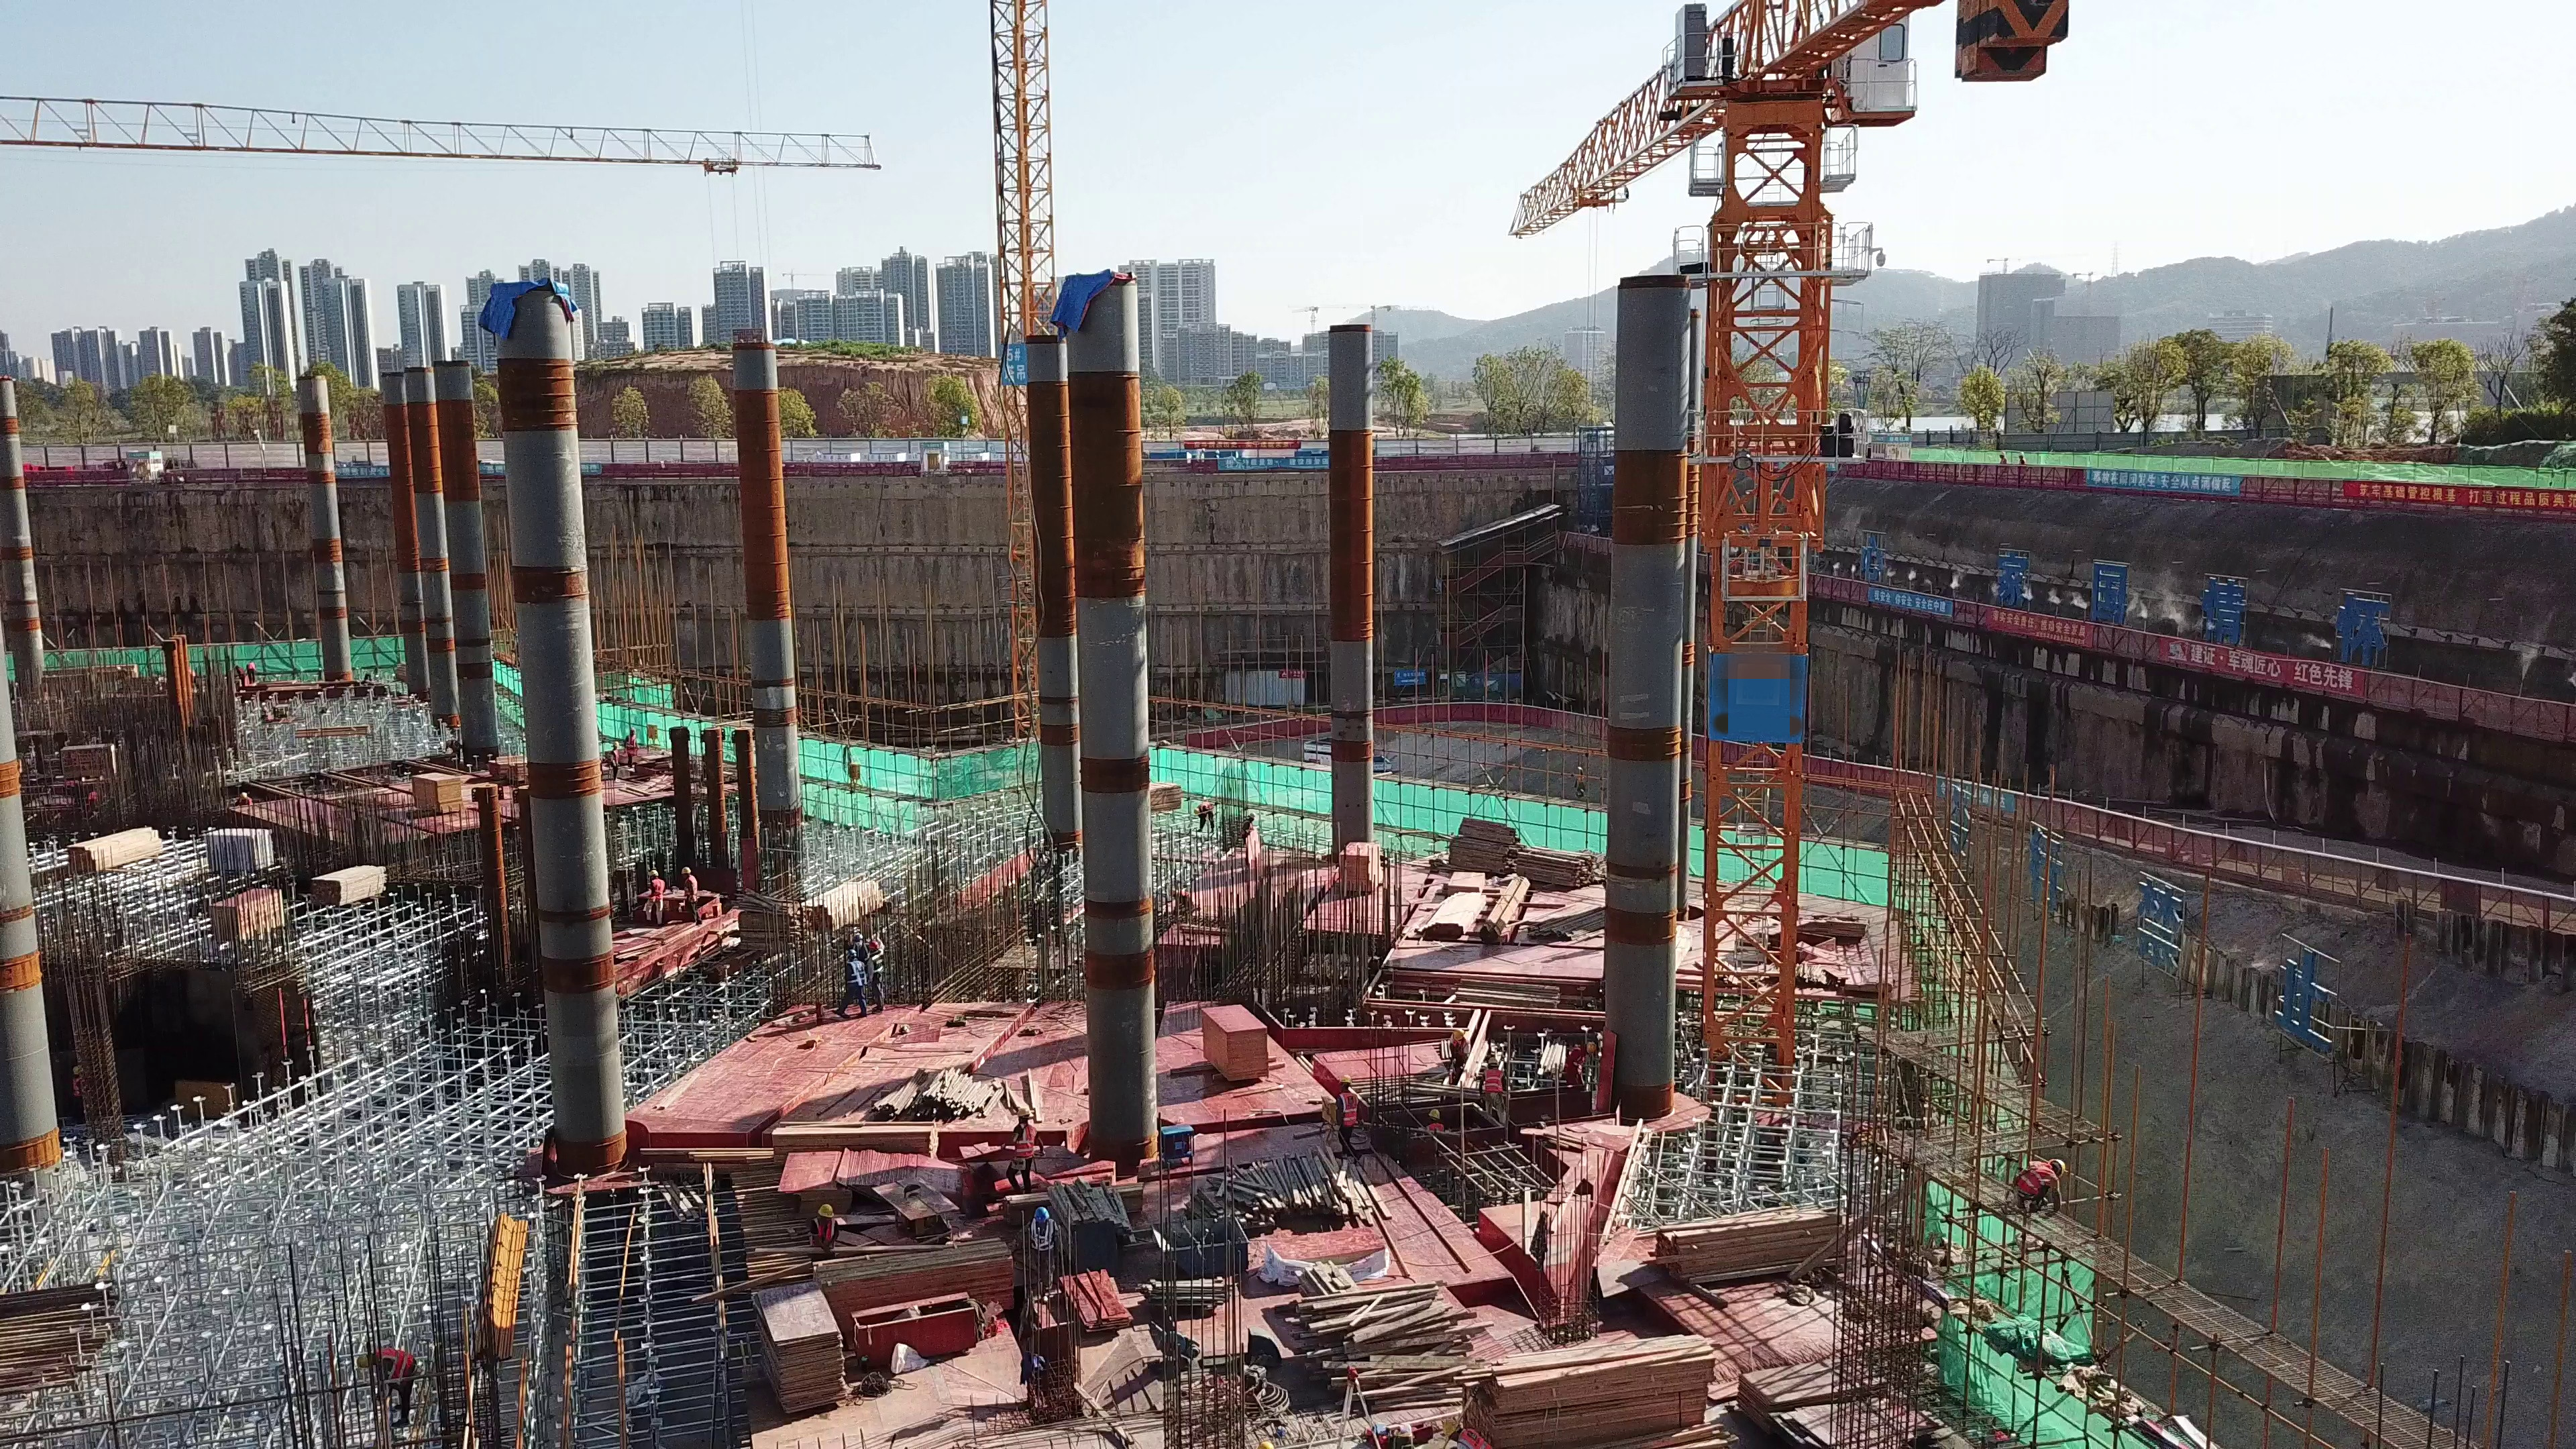helmet: (2053, 1156, 2070, 1174), (819, 1201, 835, 1215), (1014, 1106, 1034, 1116), (1587, 1039, 1601, 1055), (1033, 1210, 1049, 1222), (1339, 1073, 1356, 1087), (1452, 1027, 1468, 1040), (843, 949, 857, 961), (1429, 1107, 1442, 1122), (1485, 1057, 1500, 1065), (851, 930, 865, 939), (647, 867, 658, 877), (610, 739, 620, 750), (680, 866, 692, 876), (1171, 887, 1179, 897), (627, 725, 638, 733), (1248, 812, 1259, 819), (869, 940, 877, 948), (239, 791, 247, 800), (234, 661, 242, 667), (1193, 808, 1201, 814)
person: (2011, 1151, 2075, 1227), (349, 1347, 420, 1407), (1006, 1108, 1049, 1193), (1025, 1205, 1061, 1283), (1336, 1073, 1363, 1159), (800, 1201, 846, 1249), (833, 950, 865, 1016), (1479, 1055, 1509, 1119), (865, 941, 892, 1012), (1564, 1036, 1599, 1087), (678, 867, 705, 925), (640, 871, 670, 922), (1442, 1029, 1474, 1077), (1189, 798, 1217, 833), (602, 738, 623, 784), (622, 726, 642, 769), (1238, 813, 1256, 865), (1168, 883, 1194, 906), (1425, 1106, 1443, 1133), (235, 790, 257, 808), (246, 661, 262, 684), (85, 788, 99, 812), (849, 931, 865, 952), (230, 664, 246, 684), (2015, 452, 2029, 465), (1997, 452, 2010, 463)
vest: (2017, 1165, 2051, 1199), (1016, 1124, 1038, 1159), (1483, 1069, 1507, 1096), (847, 963, 869, 994), (1341, 1093, 1360, 1126), (1033, 1222, 1056, 1251), (813, 1219, 836, 1243), (1568, 1048, 1586, 1074), (651, 878, 666, 905), (1452, 1038, 1470, 1062), (871, 953, 887, 981), (686, 878, 700, 902), (1241, 819, 1256, 841), (627, 735, 638, 755), (1181, 889, 1195, 903), (1427, 1124, 1443, 1134), (1201, 801, 1214, 813), (611, 751, 622, 767), (87, 791, 98, 801), (248, 662, 255, 675), (236, 669, 245, 676)
